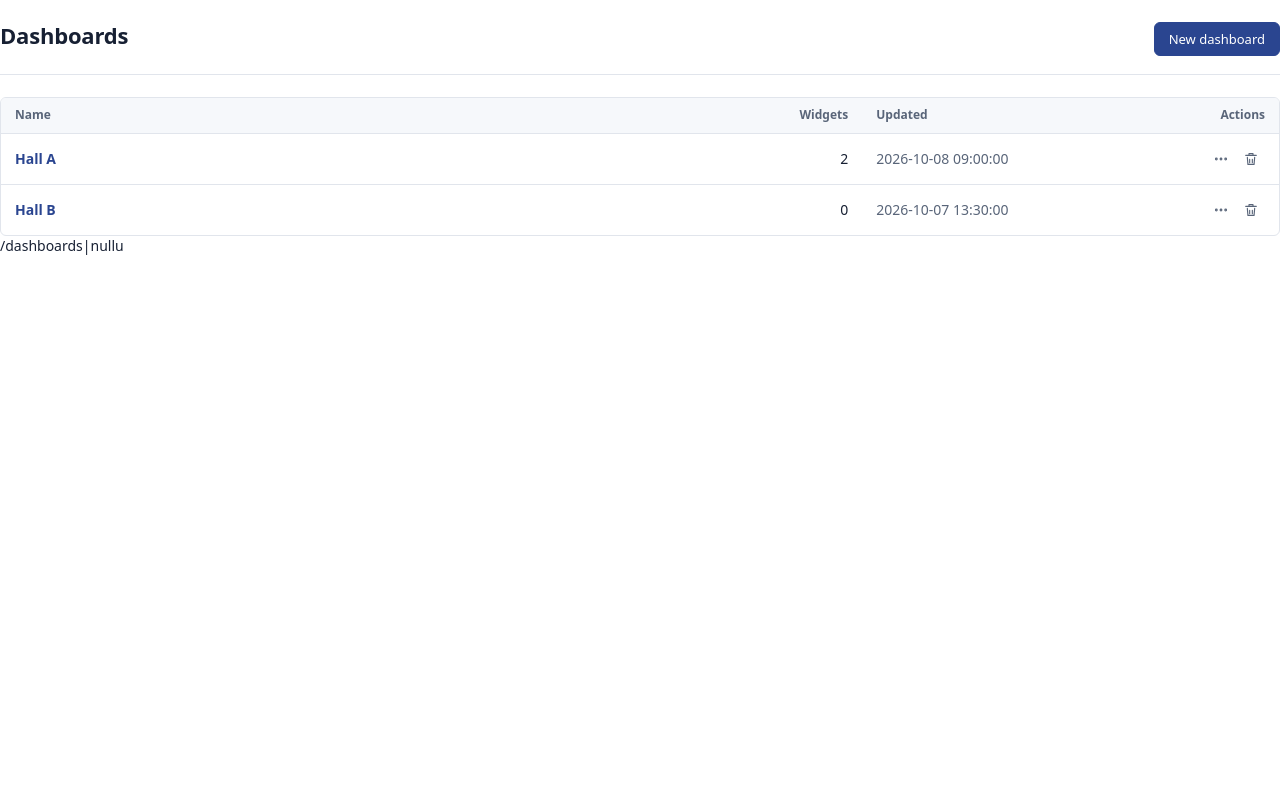
Scenario: DashboardsPage › deletes after confirmation, refreshes the list and raises one toast; Cancel deletes nothing and raises none
Click the button named "Delete Hall A" at [1251, 159], box x1=1237 y1=145 x2=1265 y2=173
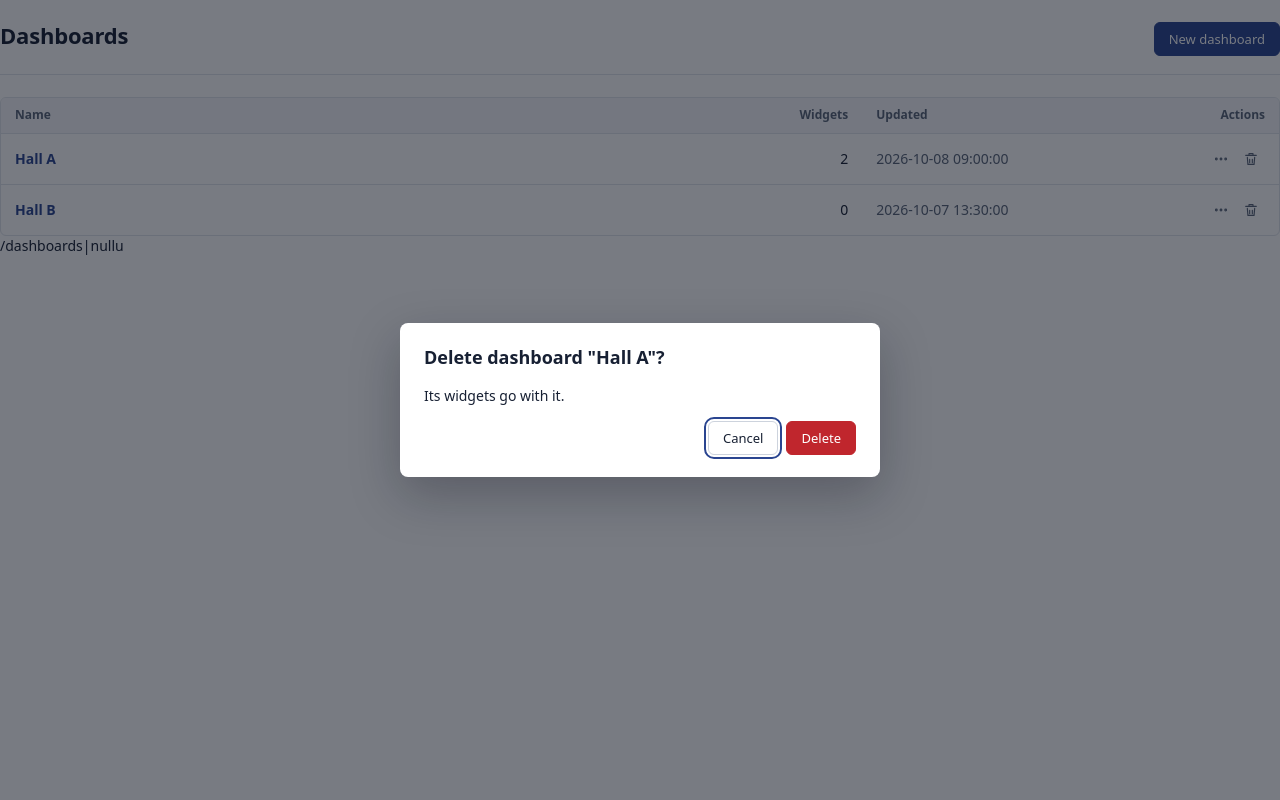
Click the button "Cancel" at [743, 438], box x1=708 y1=421 x2=778 y2=455
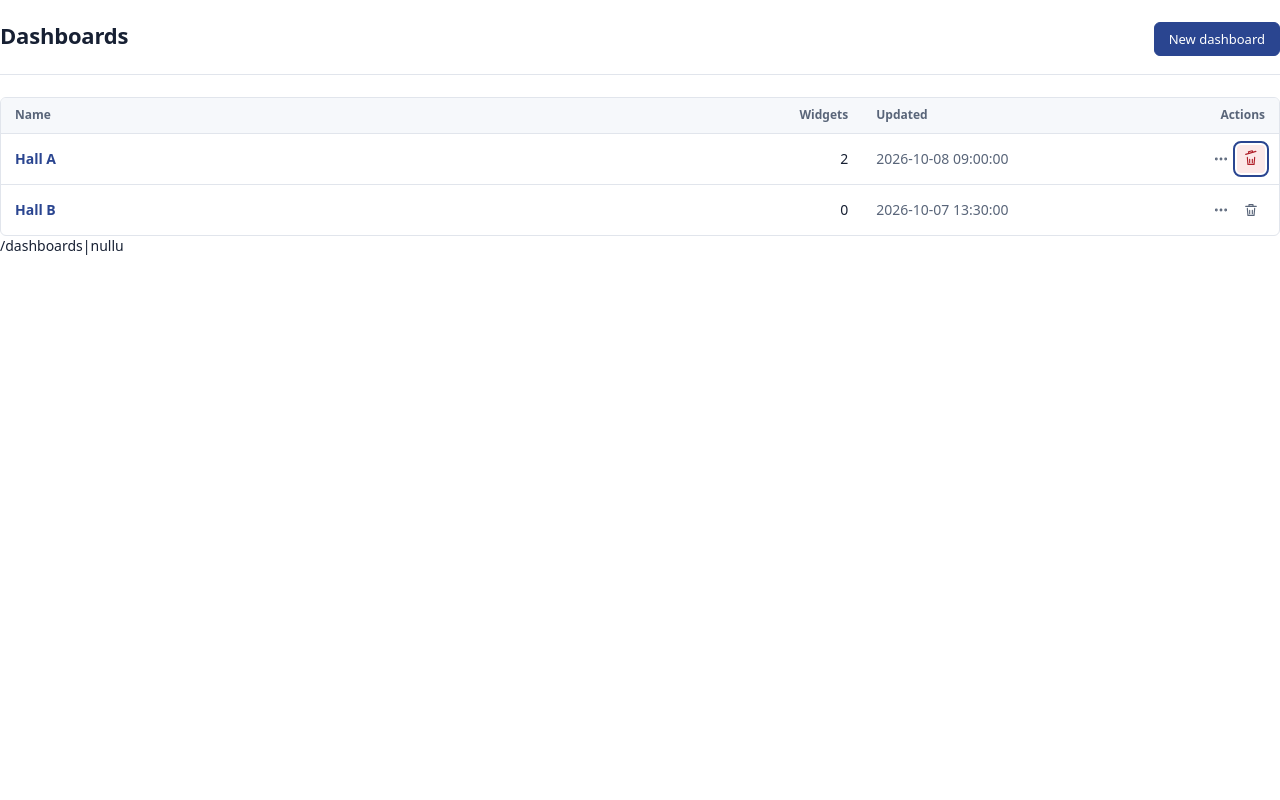
Expected: the dialog is gone
Click the button named "Delete Hall A" at [1251, 159], box x1=1237 y1=145 x2=1265 y2=173
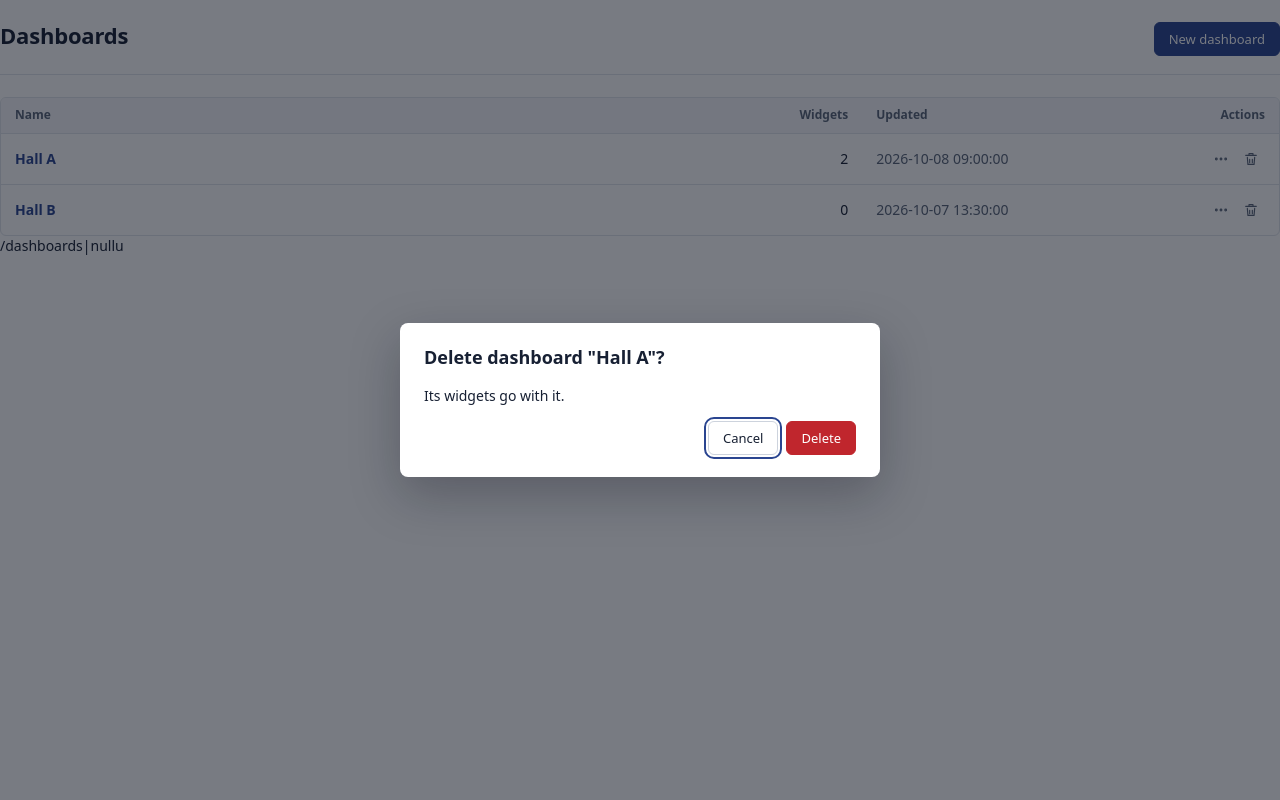
Click the button "Delete" at [821, 438], box x1=786 y1=421 x2=856 y2=455
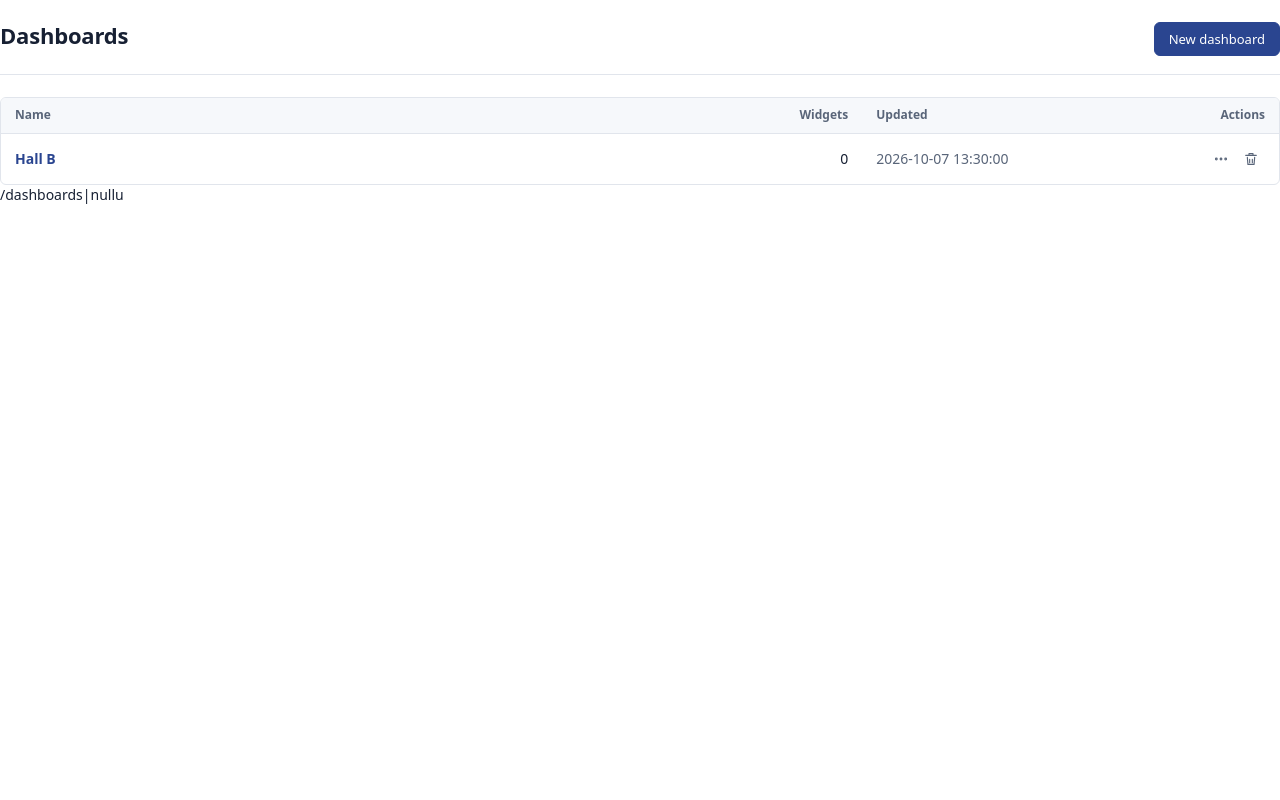
Expected: the link "Hall B" is shown, x1=15 y1=149 x2=56 y2=169
Expected: the link "Hall A" is gone
Expected: the dialog is gone
